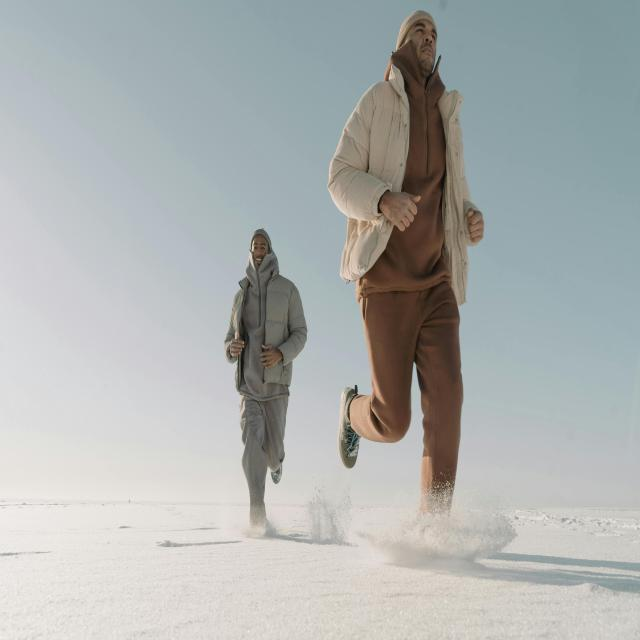stand: (335, 6, 474, 518), (222, 198, 312, 519)
